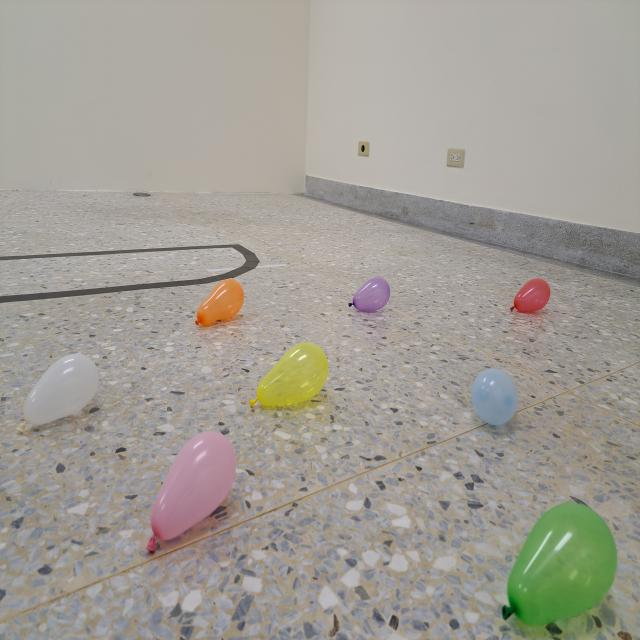other: (502, 502, 616, 626), (144, 429, 237, 554), (15, 351, 100, 435), (247, 342, 329, 410), (472, 368, 518, 425), (194, 277, 244, 329), (348, 276, 391, 313)
red: (510, 277, 551, 315)
